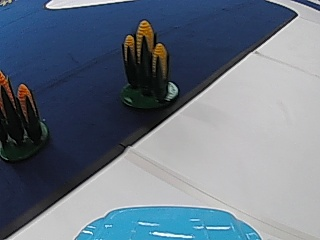corn: (118, 16, 177, 111), (0, 72, 51, 161)
